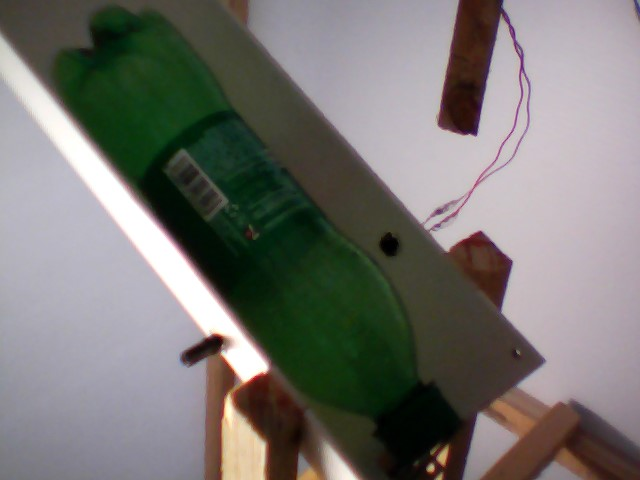plastico: (47, 1, 467, 462)
